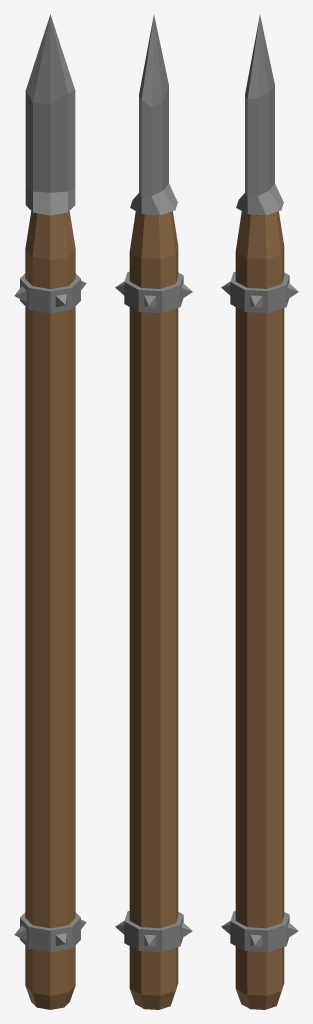
Rendered from low-poly-spear.glb.
3 views of the same model, side by side, from view 1: azimuth 90°, elevation 25°; view 2: azimuth 150°, elevation 25°; view 3: azimuth 330°, elevation 25° (orthographic).
Parts seen in each view (by area): view 1: Cylinder; view 2: Cylinder; view 3: Cylinder.
Part boxes in pixels (x1,y1,x2,y2): Cylinder: (14, 14, 86, 1009); Cylinder: (115, 15, 192, 1009); Cylinder: (221, 15, 298, 1009).
Size of the model in its own units: 2.87 by 43.18 by 2.87.
